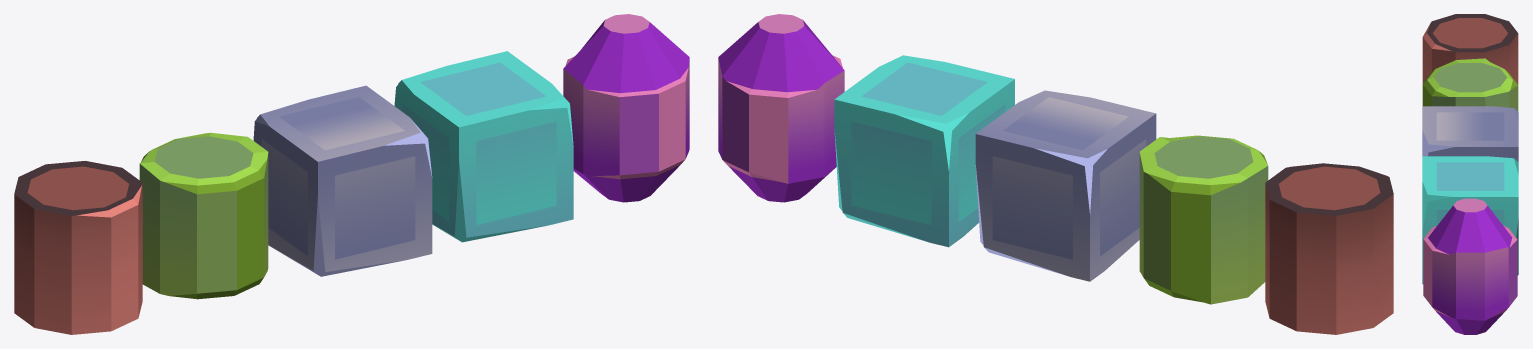
File: resources.fbx
3 renders of one model, left to right at view 1: azimuth 30°, elevation 25°; view 2: azimuth 150°, elevation 25°; view 3: azimuth 270°, elevation 25°, orthographic. The views are drawn at different scales.
Visible parts, largest first — view 1: Cube.034, Cube.022, Cylinder, Cylinder.034, Cylinder.159; view 2: Cube.034, Cube.022, Cylinder, Cylinder.034, Cylinder.159; view 3: Cylinder.159, Cube.022, Cube.034, Cylinder, Cylinder.034.
Boxes of the visible parts, x1=… form: Cube.034: x1=253, y1=85, x2=432, y2=276; Cube.022: x1=394, y1=51, x2=573, y2=242; Cylinder: x1=14, y1=161, x2=142, y2=334; Cylinder.034: x1=139, y1=132, x2=268, y2=299; Cylinder.159: x1=563, y1=14, x2=689, y2=202; Cube.034: x1=975, y1=90, x2=1156, y2=281; Cube.022: x1=834, y1=55, x2=1014, y2=247; Cylinder: x1=1265, y1=163, x2=1393, y2=334; Cylinder.034: x1=1139, y1=135, x2=1268, y2=304; Cylinder.159: x1=718, y1=14, x2=844, y2=202; Cylinder.159: x1=1423, y1=198, x2=1517, y2=334; Cube.022: x1=1422, y1=156, x2=1518, y2=284; Cube.034: x1=1422, y1=106, x2=1518, y2=161; Cylinder: x1=1422, y1=14, x2=1518, y2=84; Cylinder.034: x1=1422, y1=58, x2=1518, y2=111.
Bounding box in the file's own units: 1.68 × 0.2933 × 0.41.
1 material, 1 textured.
